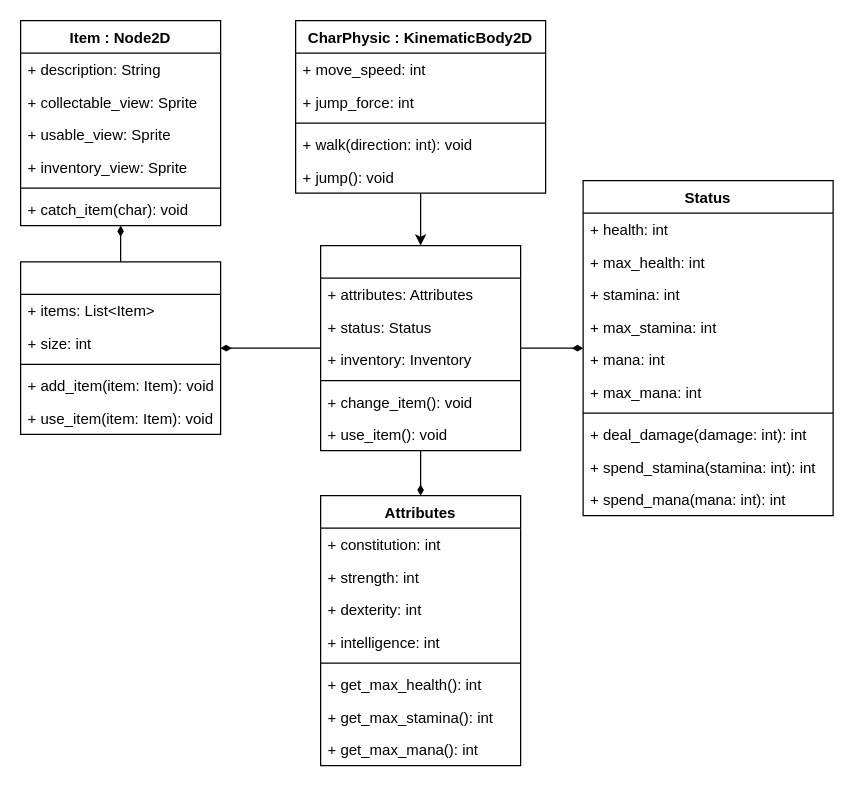
This 854x786 diagram has some shape labels left out. The shapes that lost their labels are listed below. From the top down, each one's box as (x1, y1, x2, y2) in pixels, then its label:
(19, 261, 221, 434): Inventory
(319, 244, 521, 451): CharLogic
